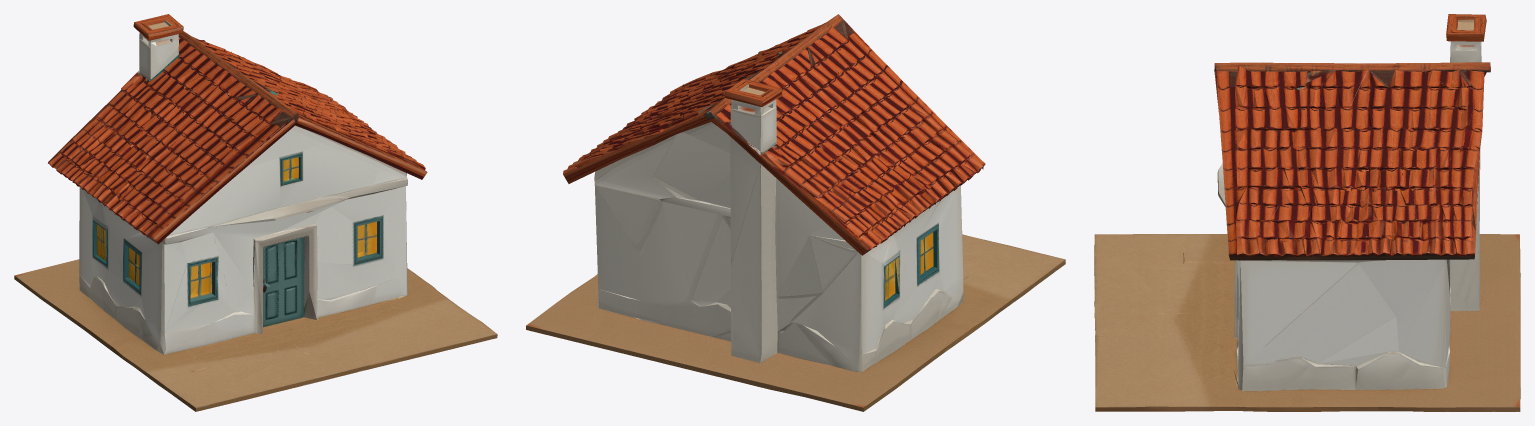
The model's file is workshop.glb.
3 renders of one model, left to right at view 1: azimuth 30°, elevation 25°; view 2: azimuth 150°, elevation 25°; view 3: azimuth 270°, elevation 25°, orthographic. The views are drawn at different scales.
Size of the model in its own units: 1.83 by 1.4 by 1.9.
Materials: 1 (1 with a texture image).
